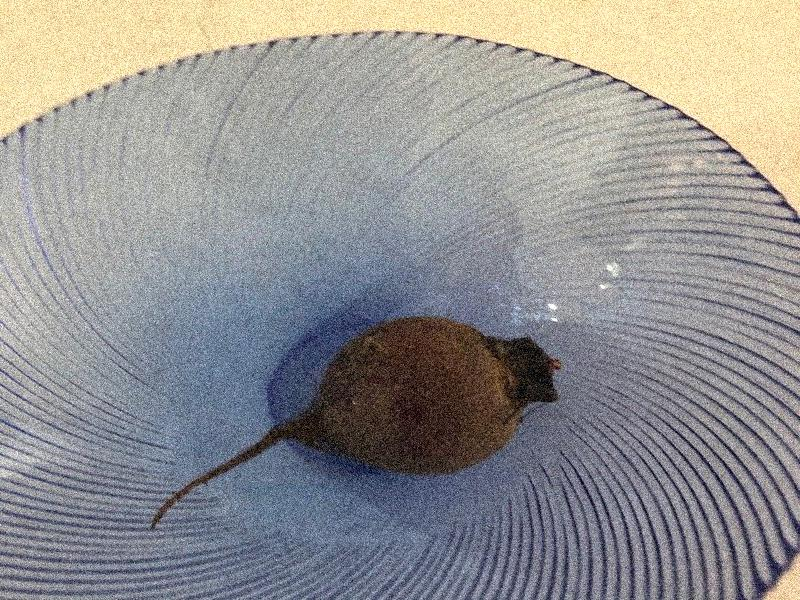Beet: (151, 319, 558, 527)
